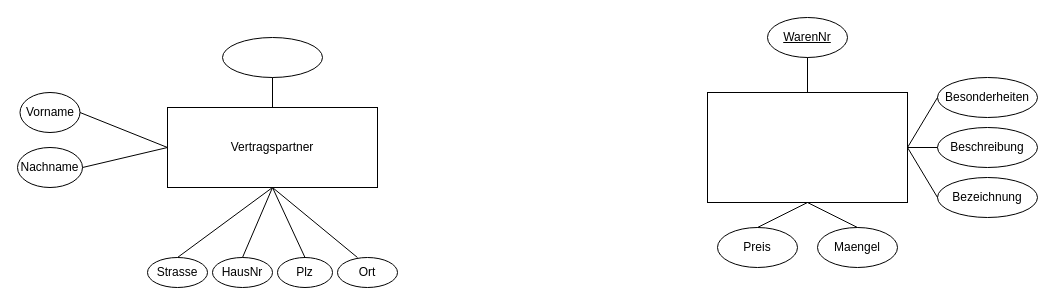
This 1055x305 diagram has some shape labels left out. The shapes that lost their labels are listed below. From the top down, each one's box as (x1, y1, x2, y2) in pixels, then its label:
(222, 36, 322, 78): AusweisNr
(706, 92, 908, 202): Ware
